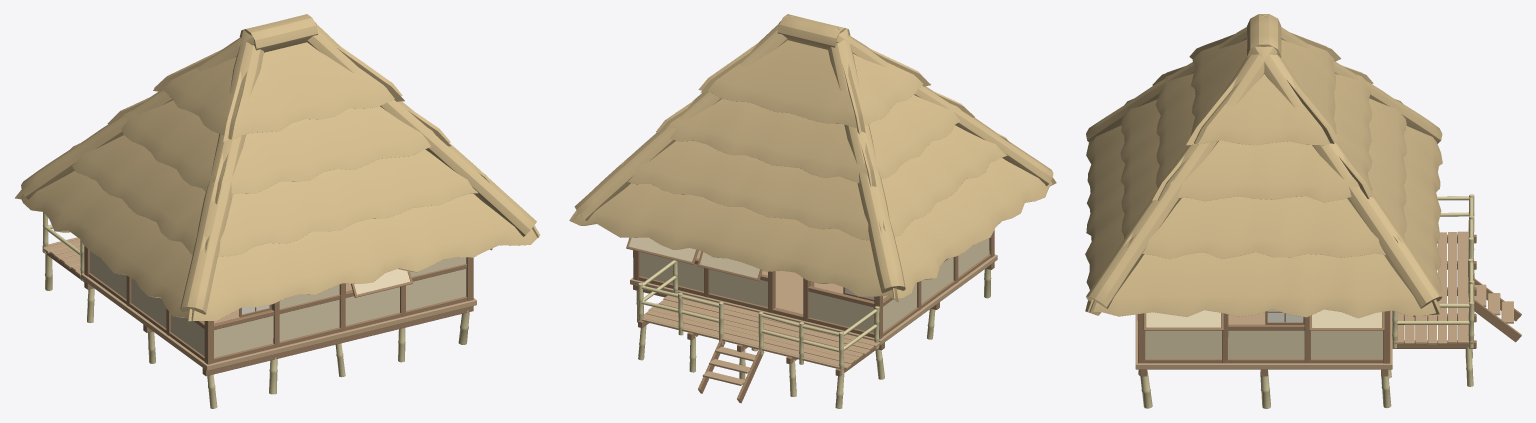
Rendered from house_land_32676.glb.
3 views of the same model, side by side, from view 1: azimuth 30°, elevation 25°; view 2: azimuth 150°, elevation 25°; view 3: azimuth 270°, elevation 25° (orthographic). The views are drawn at different scales.
Visible parts, largest first — view 1: land_32676_thatch, land_32676_sawali, land_32676_timber, land_32676_plank, land_32676_bamboo; view 2: land_32676_thatch, land_32676_plank, land_32676_sawali, land_32676_timber, land_32676_bamboo; view 3: land_32676_thatch, land_32676_sawali, land_32676_plank, land_32676_timber, land_32676_bamboo.
Boxes of the visible parts, left/top/right/bottom form: land_32676_thatch: left=15, top=14, right=540, bottom=321; land_32676_sawali: left=90, top=251, right=466, bottom=357; land_32676_timber: left=42, top=245, right=492, bottom=376; land_32676_plank: left=42, top=237, right=476, bottom=370; land_32676_bamboo: left=42, top=212, right=469, bottom=408; land_32676_thatch: left=569, top=14, right=1056, bottom=302; land_32676_plank: left=630, top=250, right=997, bottom=385; land_32676_sawali: left=629, top=237, right=989, bottom=332; land_32676_timber: left=626, top=230, right=994, bottom=403; land_32676_bamboo: left=636, top=260, right=991, bottom=408; land_32676_thatch: left=1085, top=14, right=1442, bottom=318; land_32676_sawali: left=1145, top=309, right=1382, bottom=358; land_32676_plank: left=1135, top=231, right=1513, bottom=369; land_32676_timber: left=1137, top=234, right=1521, bottom=376; land_32676_bamboo: left=1138, top=194, right=1474, bottom=408.
Size of the model in its own units: 10.27 by 8.53 by 10.71.
